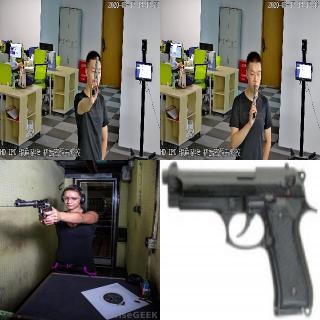gun: (164, 160, 312, 318), (13, 196, 52, 224), (247, 80, 259, 120), (90, 56, 100, 99)
